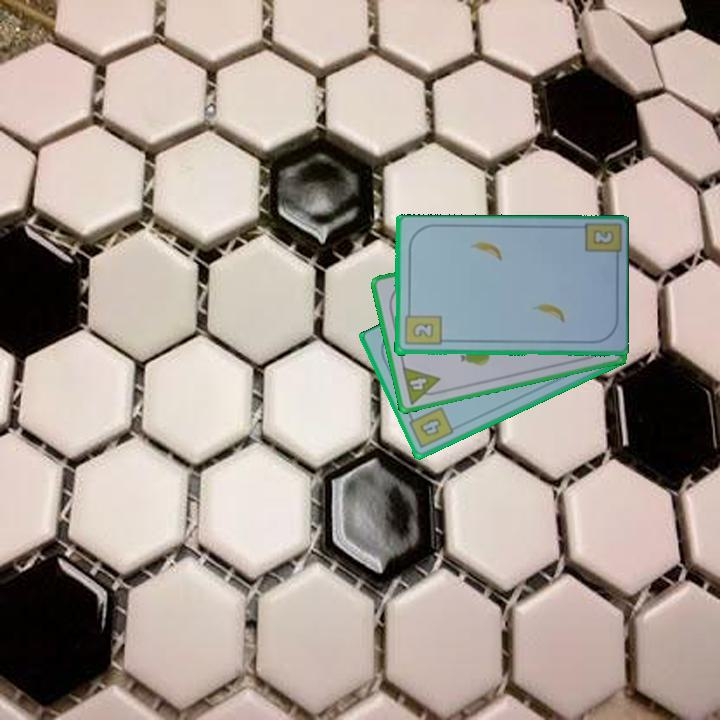2b: (401, 306, 443, 348), (589, 226, 617, 247)
4b: (405, 403, 457, 451)
4p: (399, 363, 445, 407)
